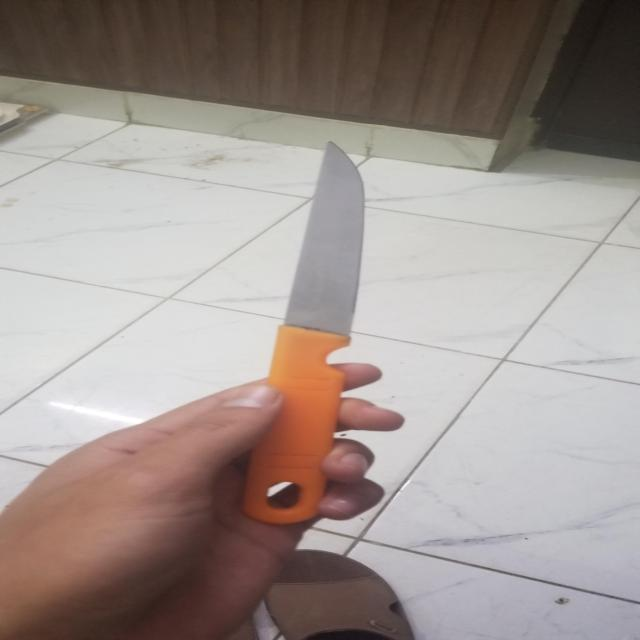Knife: (240, 140, 370, 524)
Person: (0, 362, 410, 640)
